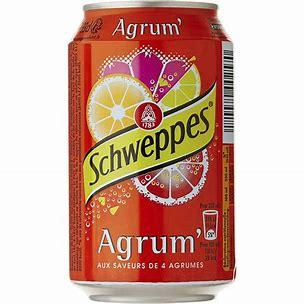metal: (68, 1, 236, 304)
